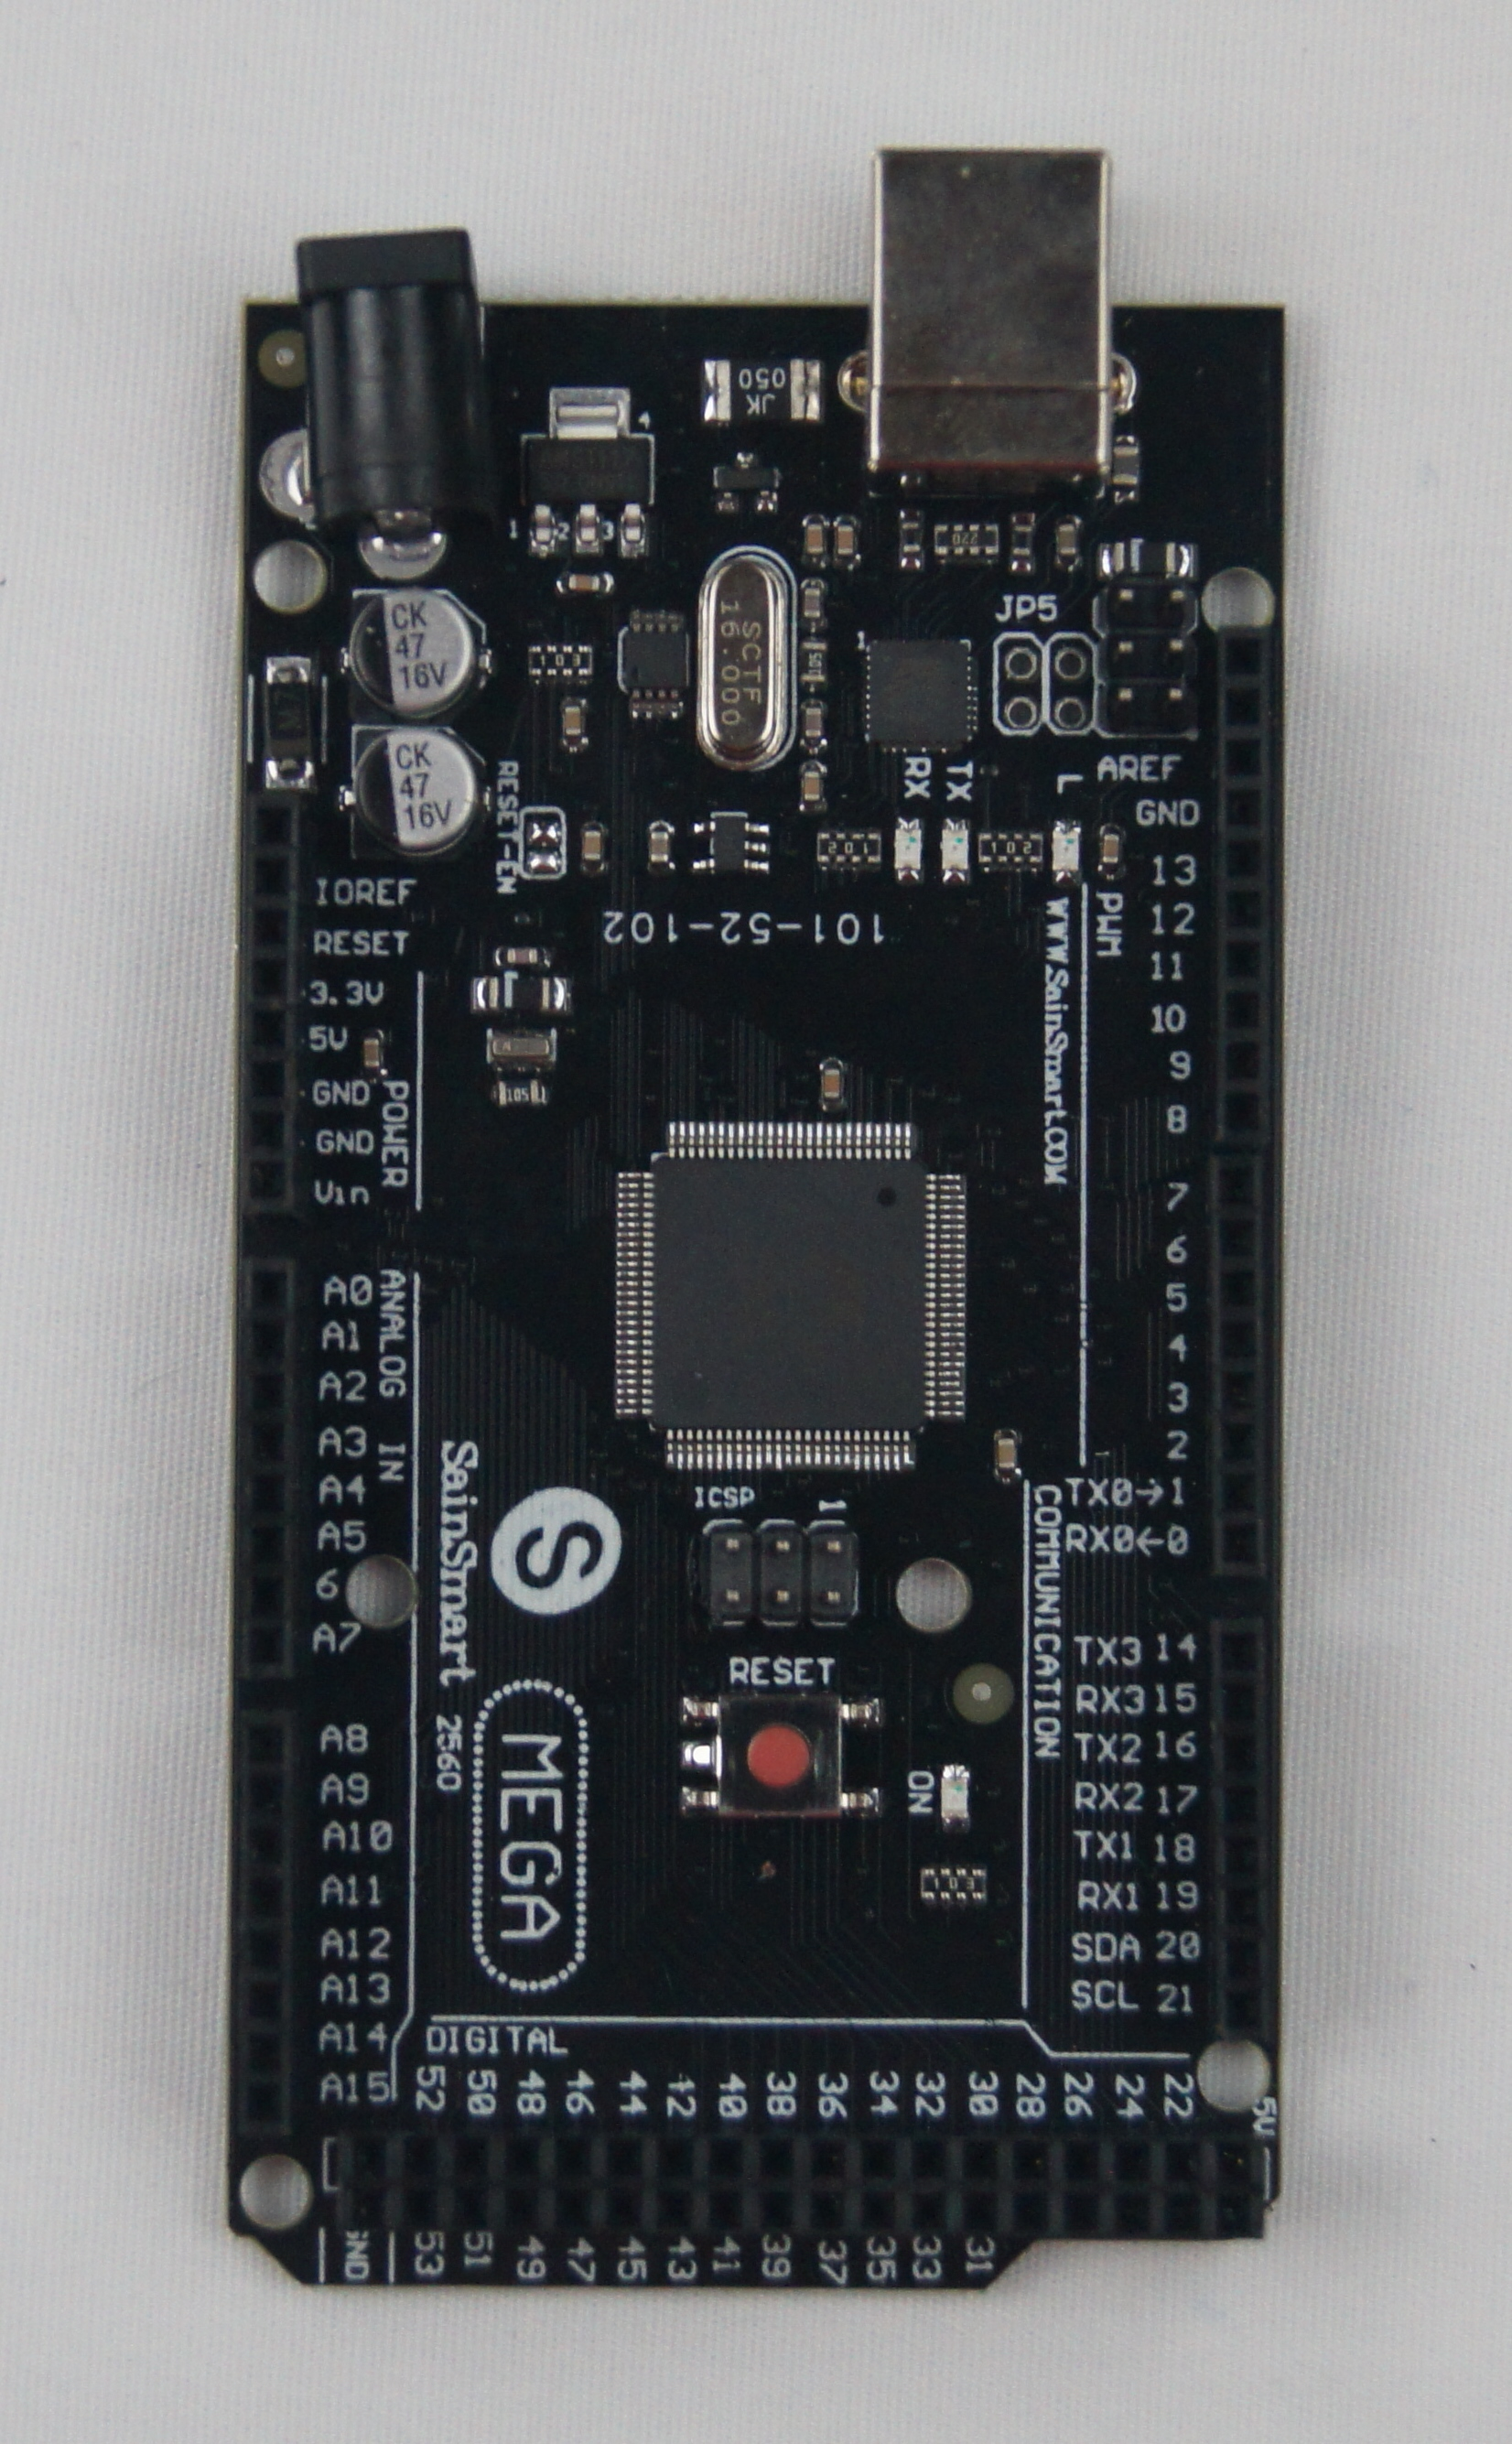connector: (340, 2125, 1262, 2241), (292, 227, 494, 541), (1213, 628, 1275, 1150), (1206, 1613, 1275, 2042), (1208, 1157, 1275, 1578), (239, 789, 302, 1213), (236, 1709, 293, 2138), (237, 1255, 295, 1681), (705, 1519, 856, 1630), (1100, 576, 1196, 733), (1048, 630, 1088, 733), (1000, 634, 1041, 731)
